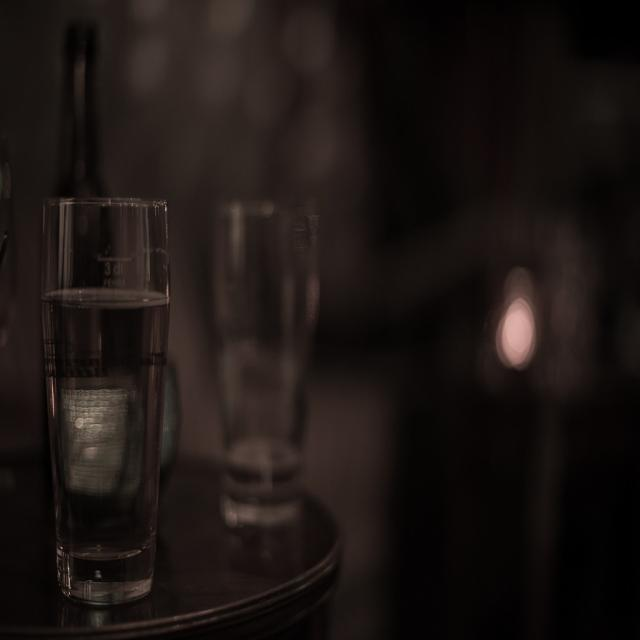Bottle: (55, 10, 181, 523)
Cup: (35, 195, 169, 613), (207, 175, 322, 549)
Table: (0, 415, 387, 640)
